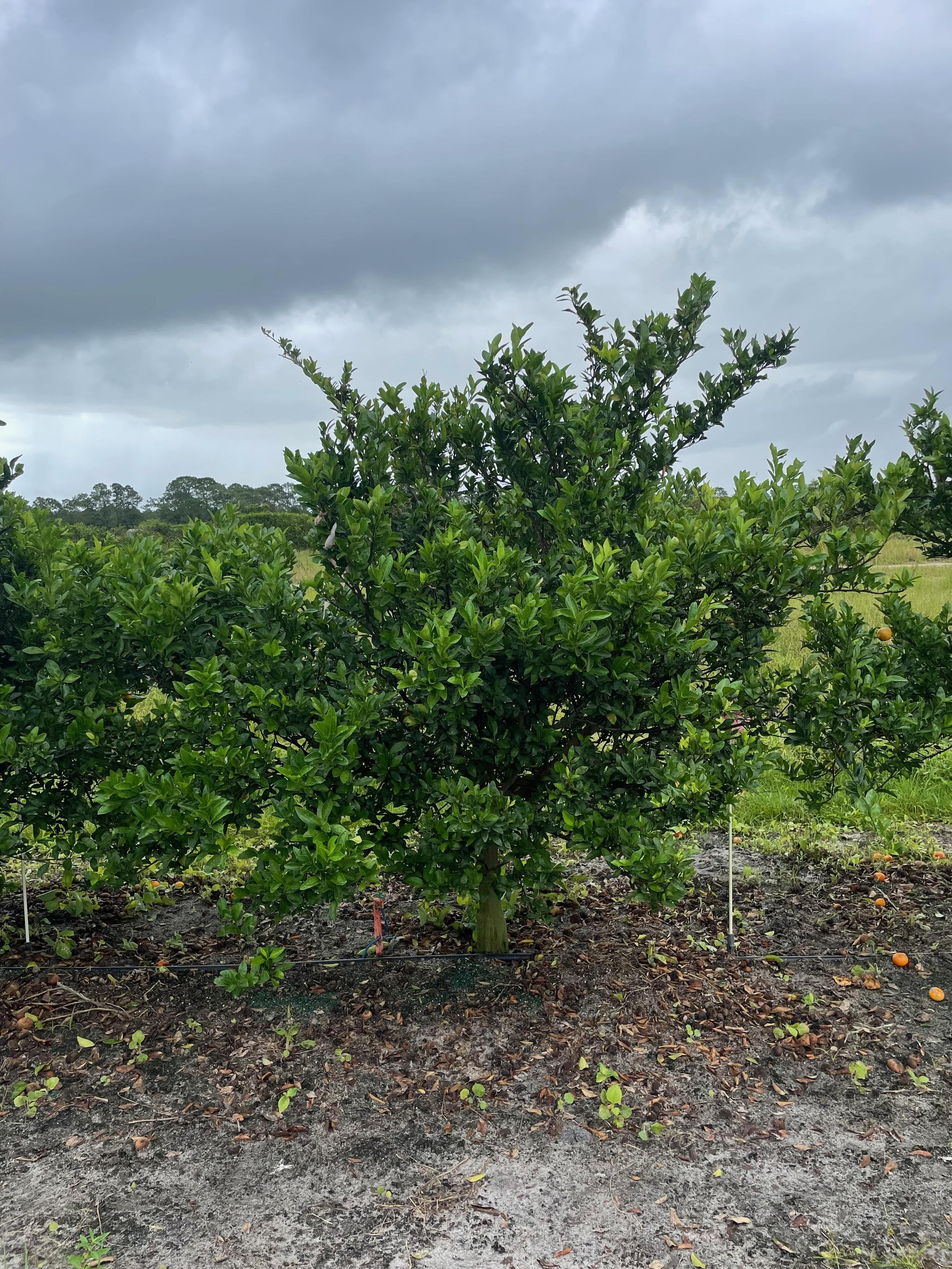fruit_on_ground: (875, 625, 894, 642), (121, 692, 133, 704)
fruit_on_tree: (926, 984, 947, 1003), (890, 949, 910, 967), (886, 1055, 906, 1072), (931, 846, 948, 862), (872, 850, 890, 863), (873, 894, 887, 908), (873, 870, 887, 883), (173, 878, 186, 891), (882, 852, 894, 863)
